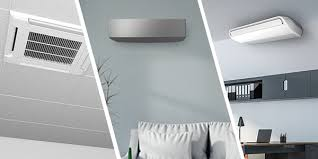ac: (109, 12, 190, 43), (223, 16, 309, 45)
